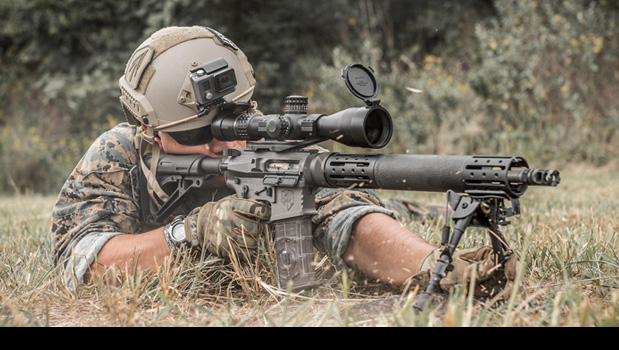Gun: (222, 97, 558, 207)
